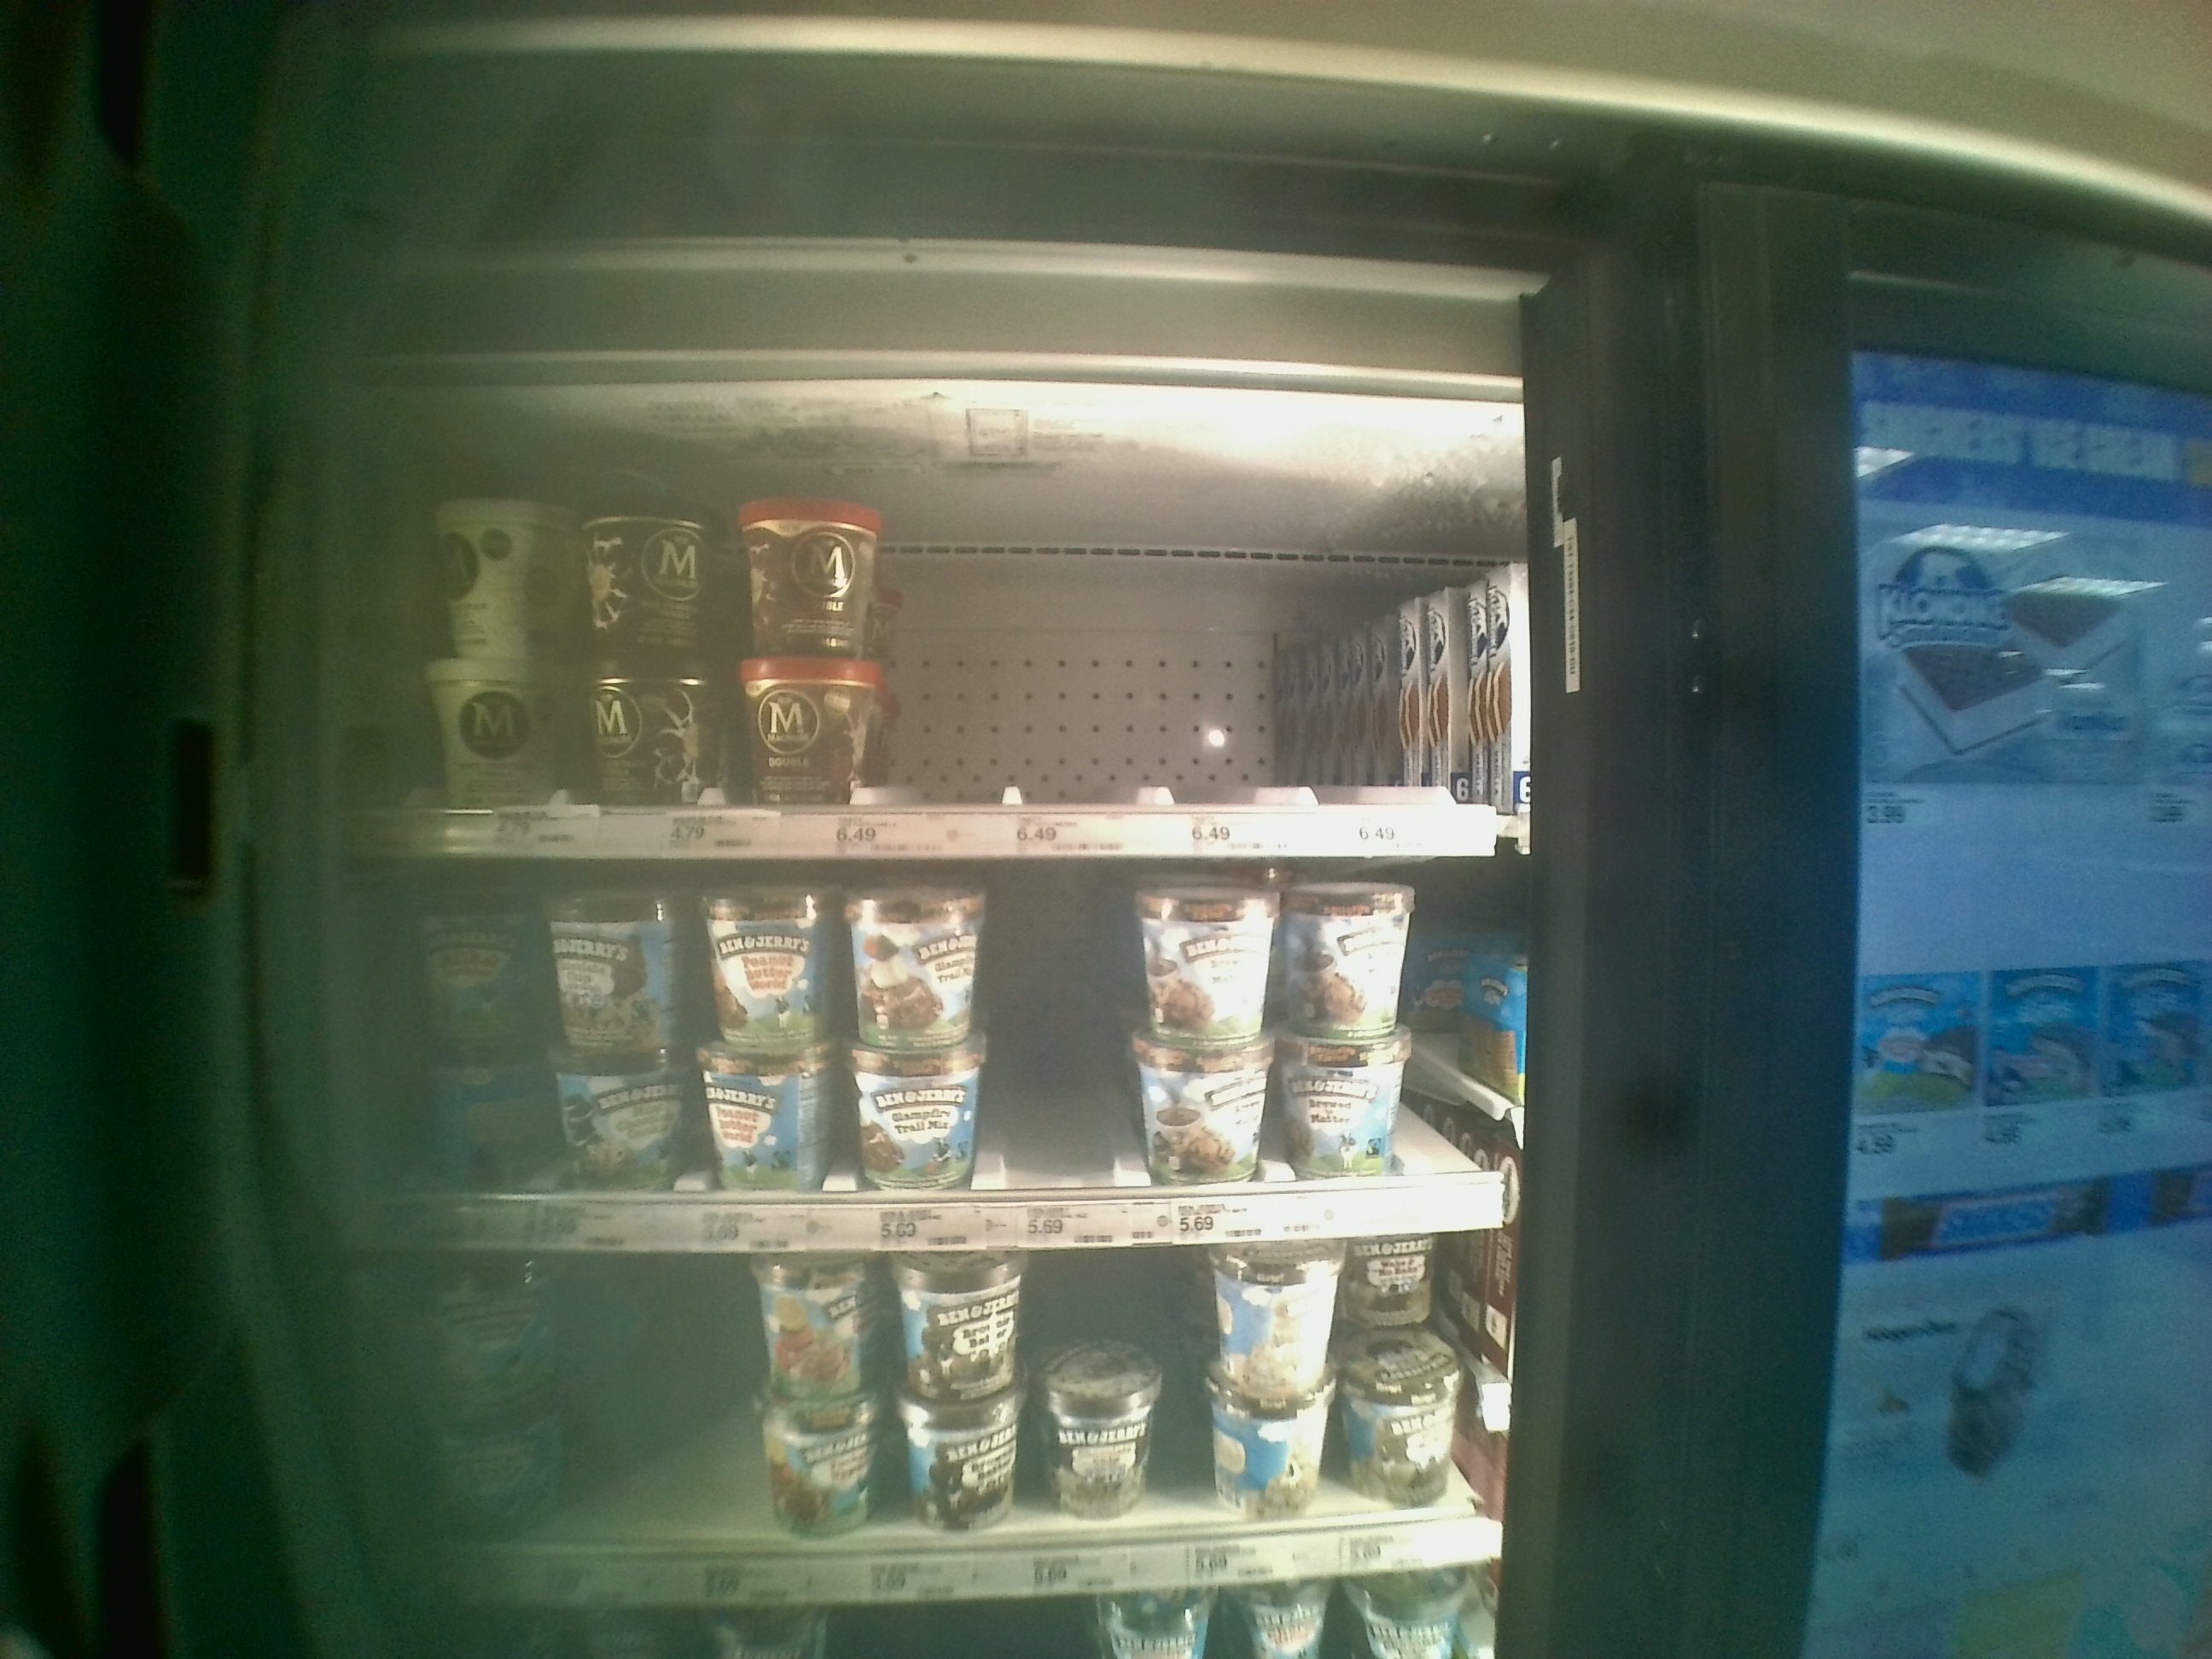ice-cream-shelf: (392, 415, 1524, 854), (387, 857, 1521, 1253), (394, 1253, 1510, 1605)
